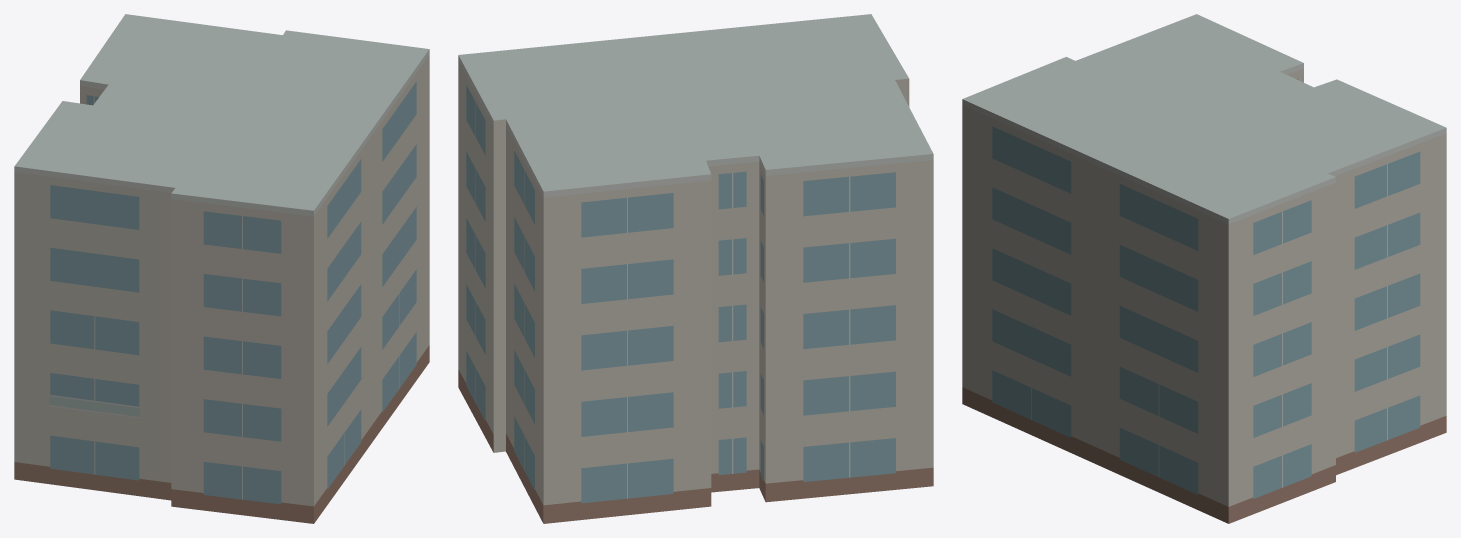
The model's file is survey-upis-33003861.glb.
3 renders of one model, left to right at view 1: azimuth 30°, elevation 25°; view 2: azimuth 150°, elevation 25°; view 3: azimuth 270°, elevation 25°, orthographic. The views are drawn at different scales.
Parts seen in each view (by area): view 1: survey-upis-33003861.tmp; view 2: survey-upis-33003861.tmp; view 3: survey-upis-33003861.tmp.
Part boxes in pixels (x1,y1,x2,y2): survey-upis-33003861.tmp: (14, 14, 429, 523); survey-upis-33003861.tmp: (458, 14, 933, 523); survey-upis-33003861.tmp: (962, 14, 1446, 523).
Bounding box in the file's own units: 19.48 × 13.5 × 19.45.
